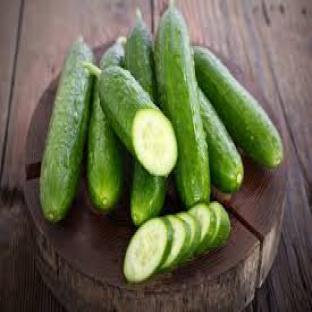Cucumber: (156, 4, 209, 207), (195, 48, 282, 167), (86, 64, 178, 175), (40, 38, 94, 221), (88, 82, 123, 211), (199, 91, 243, 192), (124, 219, 172, 283), (125, 11, 156, 100), (131, 161, 165, 226), (160, 215, 190, 271), (189, 203, 216, 254), (177, 212, 200, 260), (209, 202, 230, 247), (100, 36, 127, 68)
